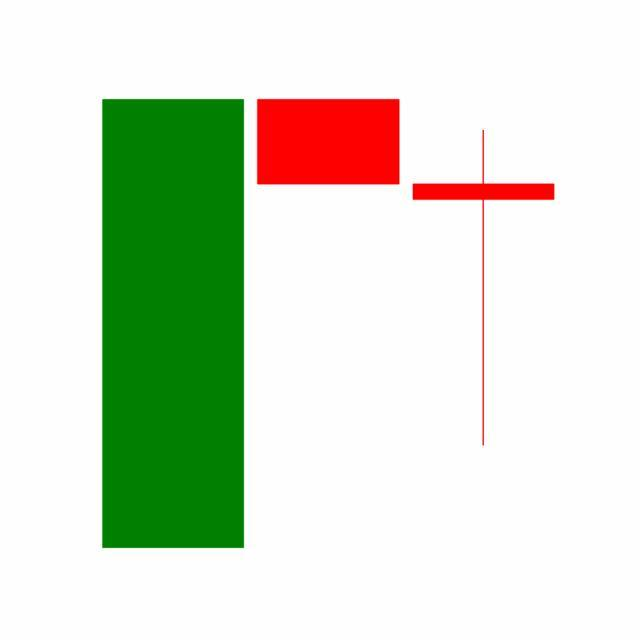Spinning Top: (406, 127, 562, 450)
